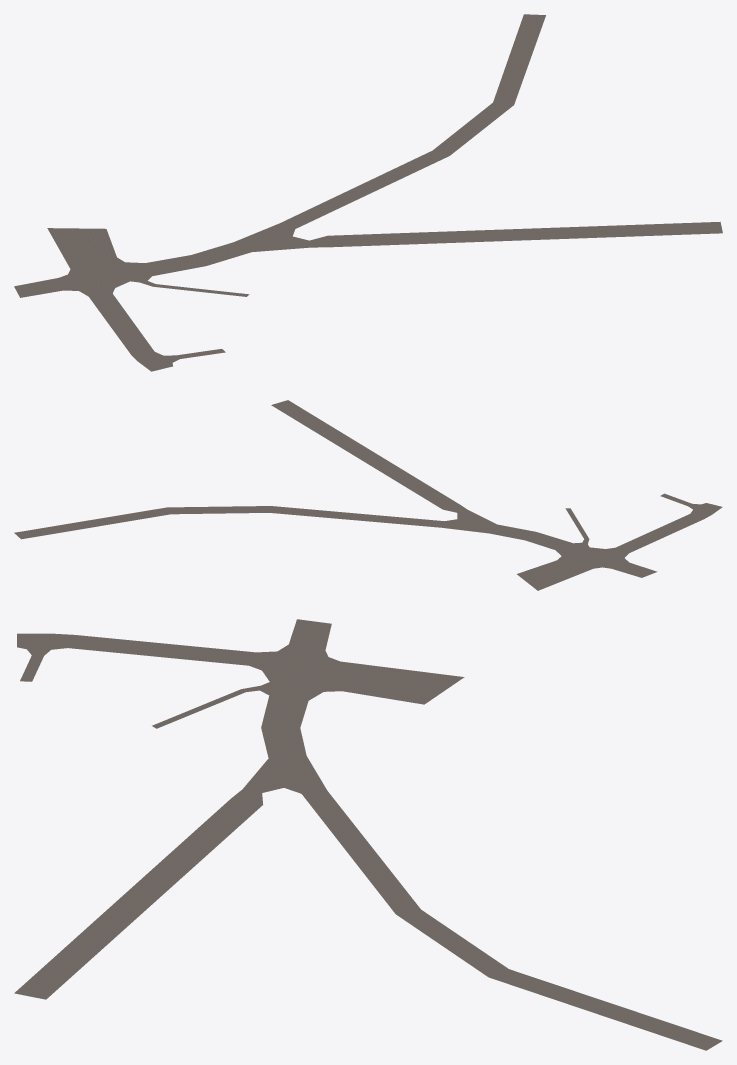
Rendered from Road1.fbx.
The picture shows the model from 3 angles, top to bottom: view 1: azimuth 30°, elevation 25°; view 2: azimuth 150°, elevation 25°; view 3: azimuth 270°, elevation 25°; orthographic projection. The views are drawn at different scales.
Visible parts, largest first — view 1: Plane; view 2: Plane; view 3: Plane.
Part boxes in pixels (bbox=[...]): Plane: bbox=[14, 14, 722, 371]; Plane: bbox=[14, 400, 722, 590]; Plane: bbox=[14, 619, 722, 1050].
Size of the model in its own units: 61663 by 54.95 by 42803.
